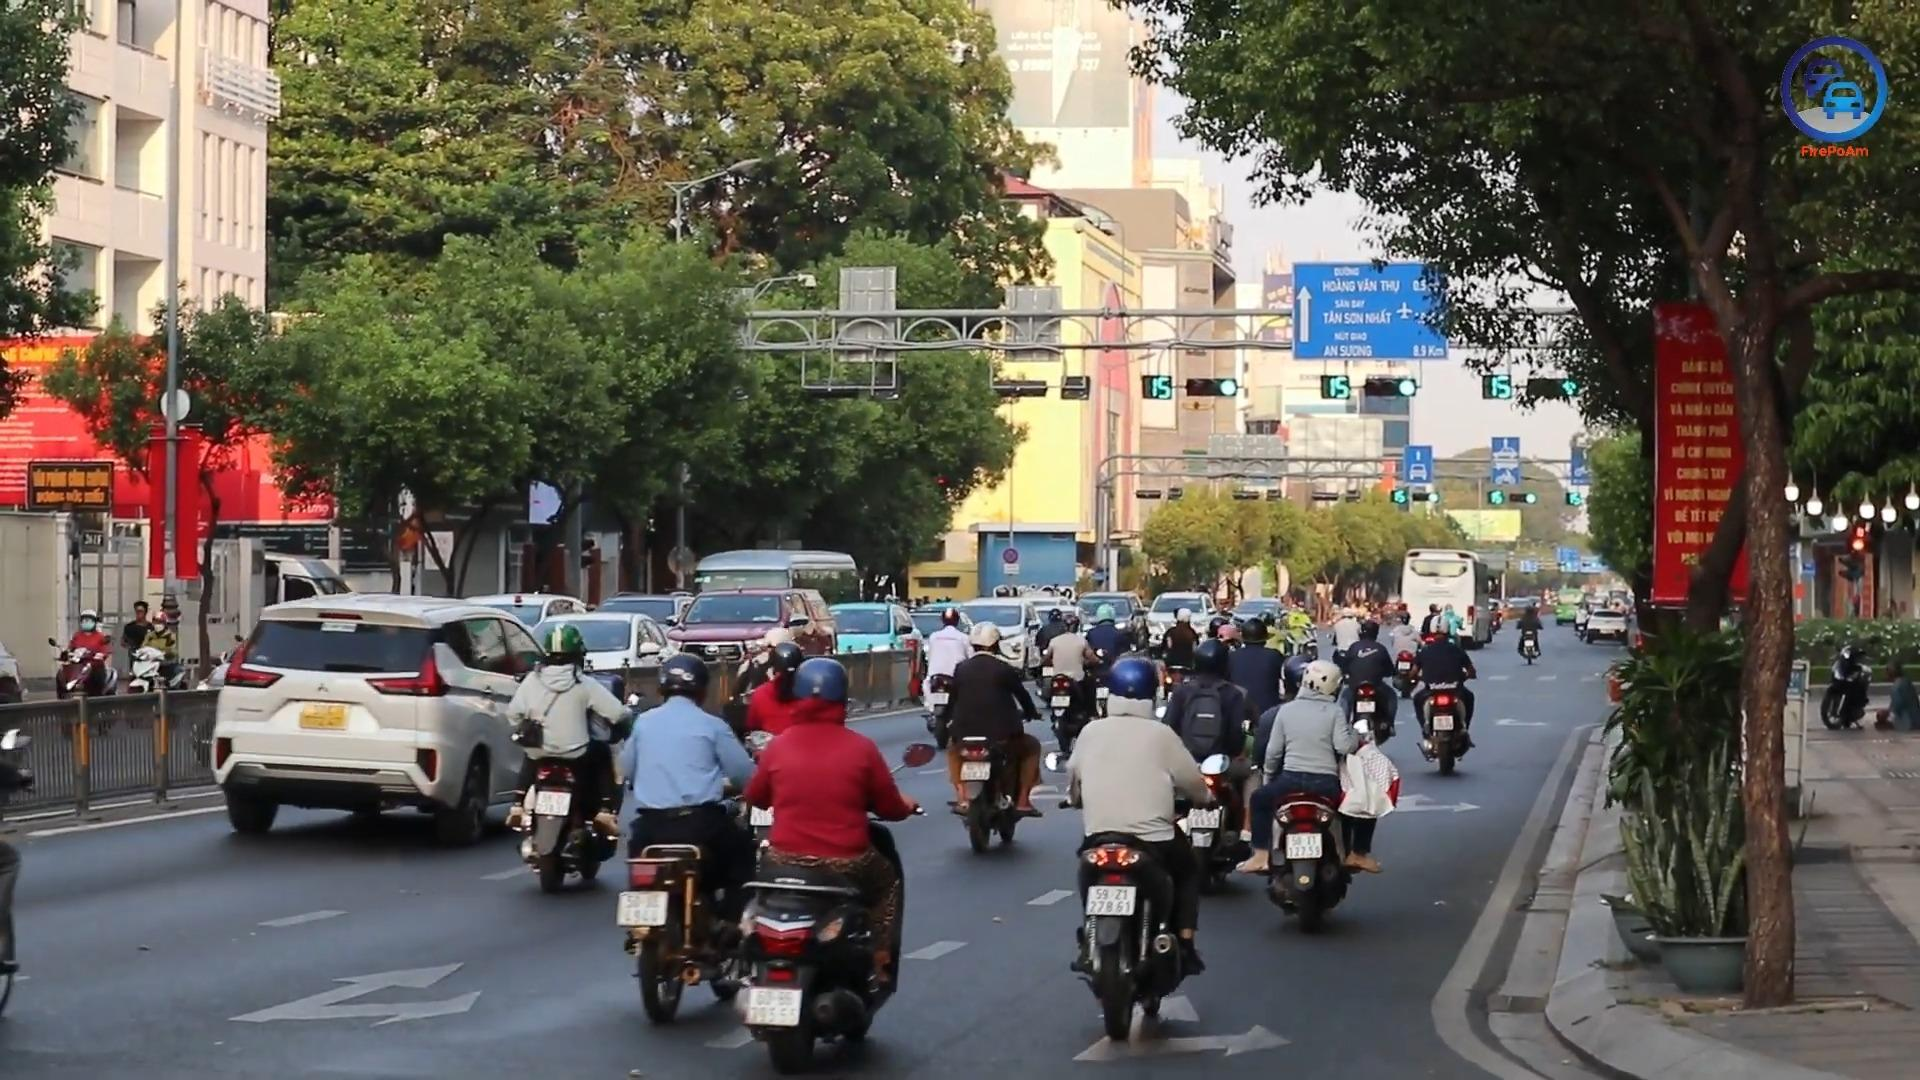bien_so: (742, 984, 805, 1029), (615, 889, 671, 928), (1083, 884, 1138, 917), (297, 699, 352, 731), (1284, 832, 1323, 860), (533, 790, 571, 816), (1188, 808, 1220, 831), (959, 759, 992, 781)
